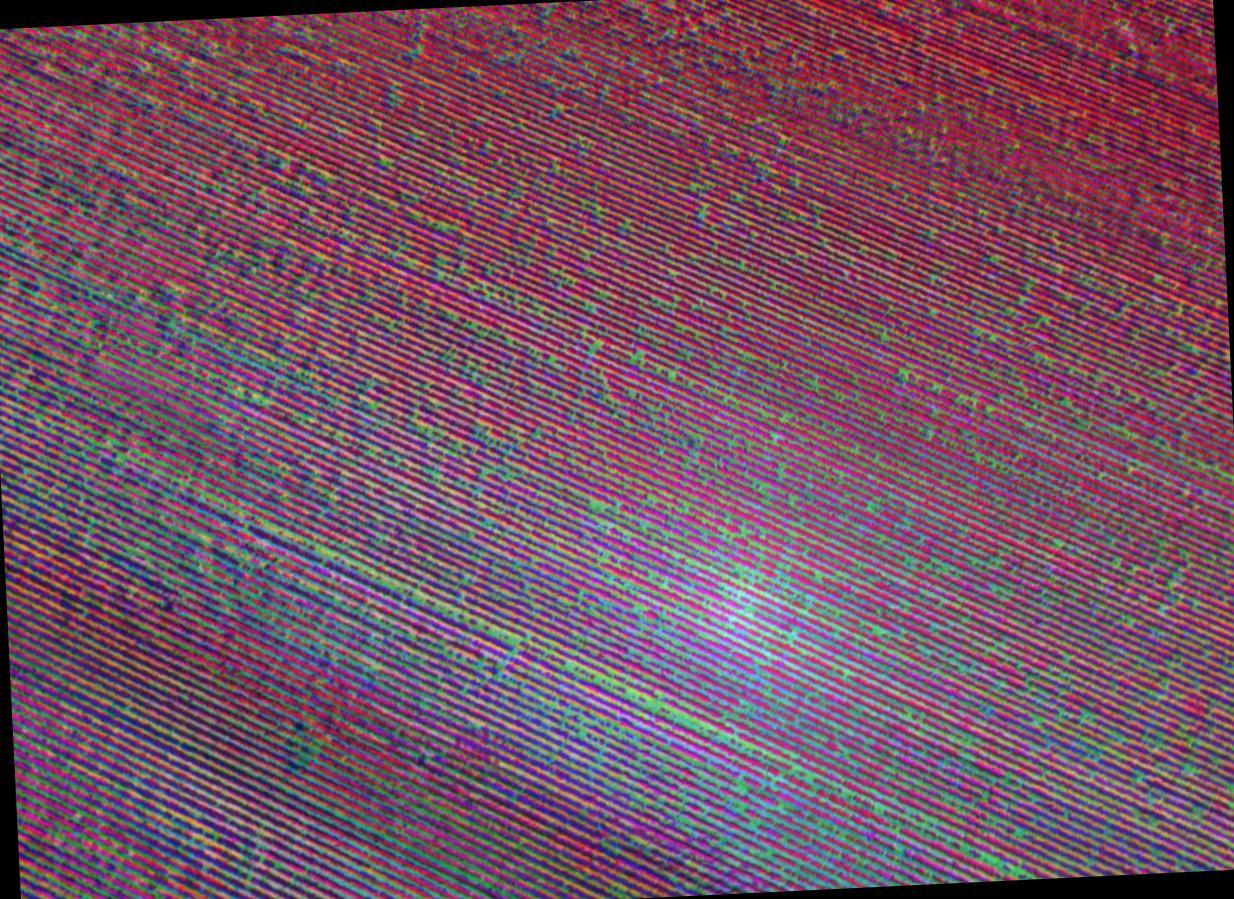dc: (61, 438, 183, 581), (206, 528, 309, 669), (493, 645, 602, 764), (341, 588, 451, 704), (698, 533, 798, 659), (683, 733, 787, 837)
